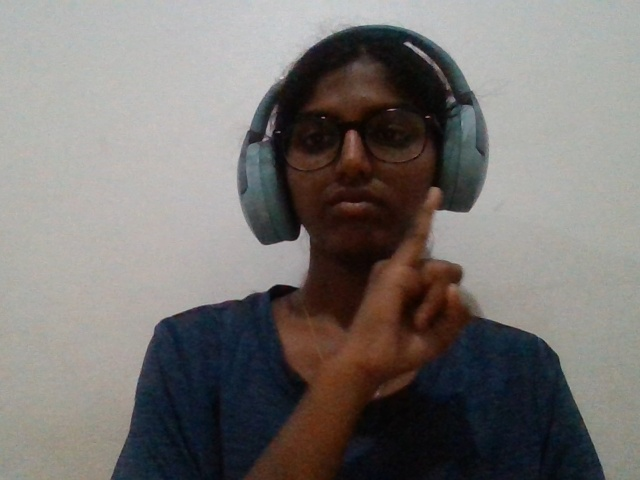I: (343, 180, 499, 416)
